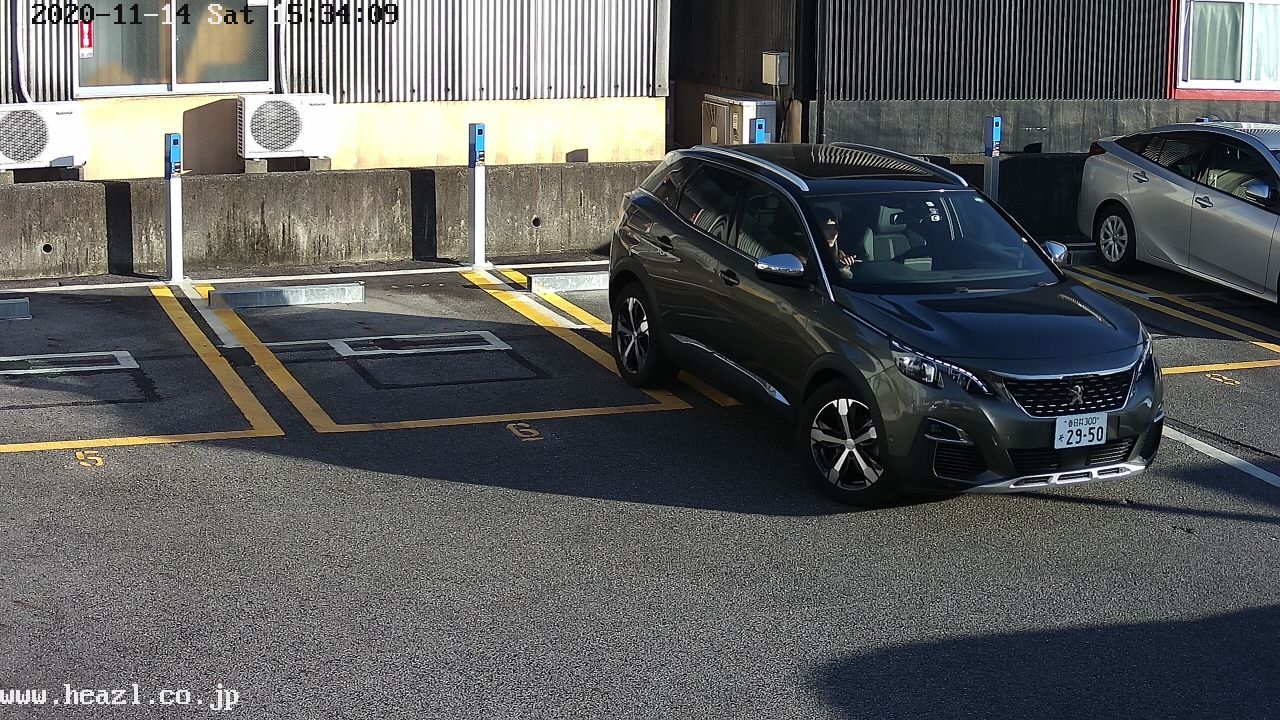number_plate: (1054, 413, 1109, 448)
